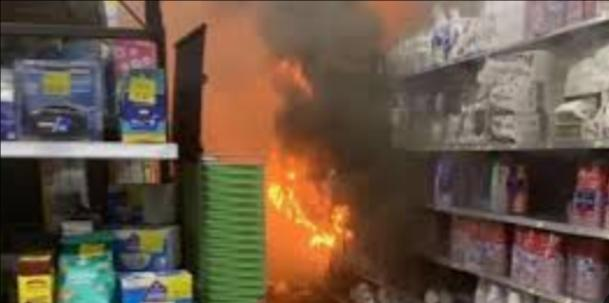fire: (246, 96, 416, 254)
